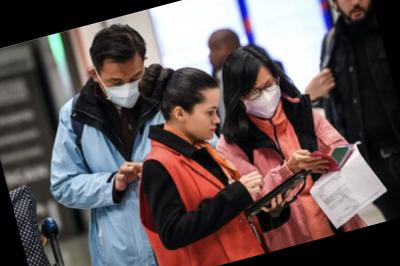with_mask: (238, 73, 290, 126), (101, 67, 153, 118)
without_mask: (185, 99, 231, 146), (332, 1, 376, 26)
